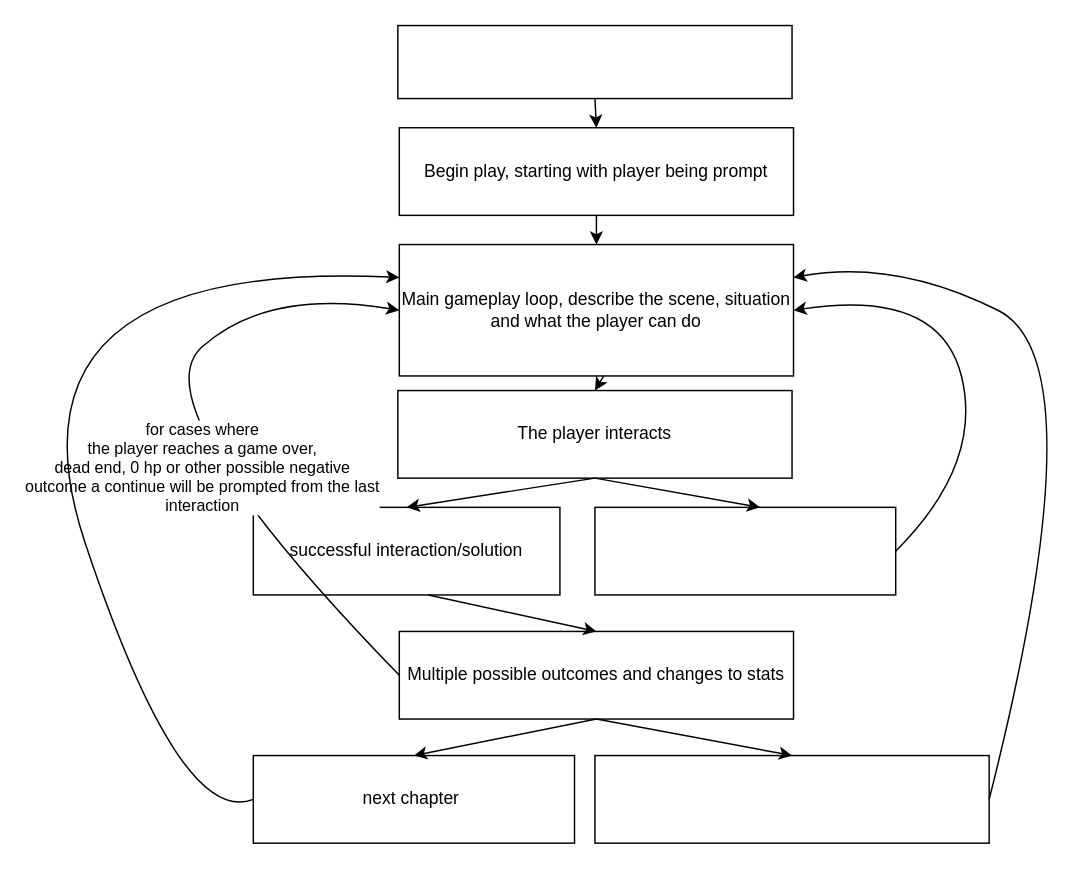
Image size: 1075x869. Some labels were removed from this diagram. The shapes that lost their labels are listed below. From the top down, each one's box as (x1, y1, x2, y2) in pixels, then its label:
(396, 24, 792, 99): Initialize; Telling player basics, how to interact, the main mechanics
(593, 506, 896, 595): failed interaction, wrong spelling, returns to loop
(593, 754, 989, 843): Next page, relative to the option/path the player chose for side paths/secrets
